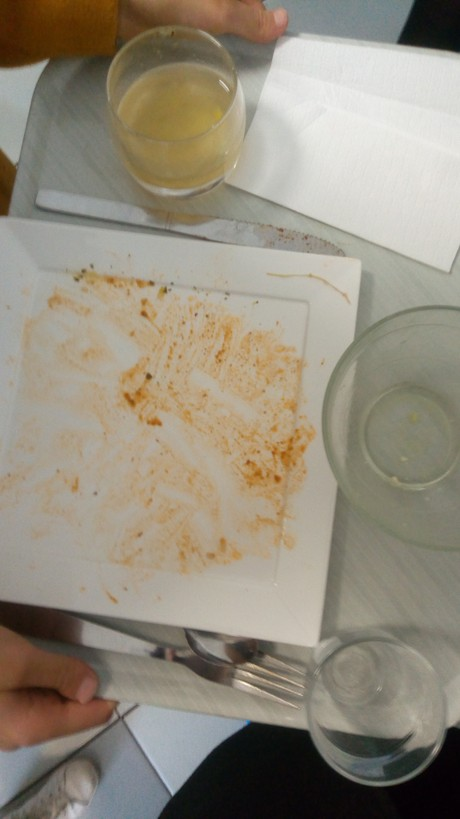cup: (301, 625, 460, 816)
cutlery: (3, 591, 320, 731), (33, 175, 359, 265)
trash: (230, 53, 460, 275)
